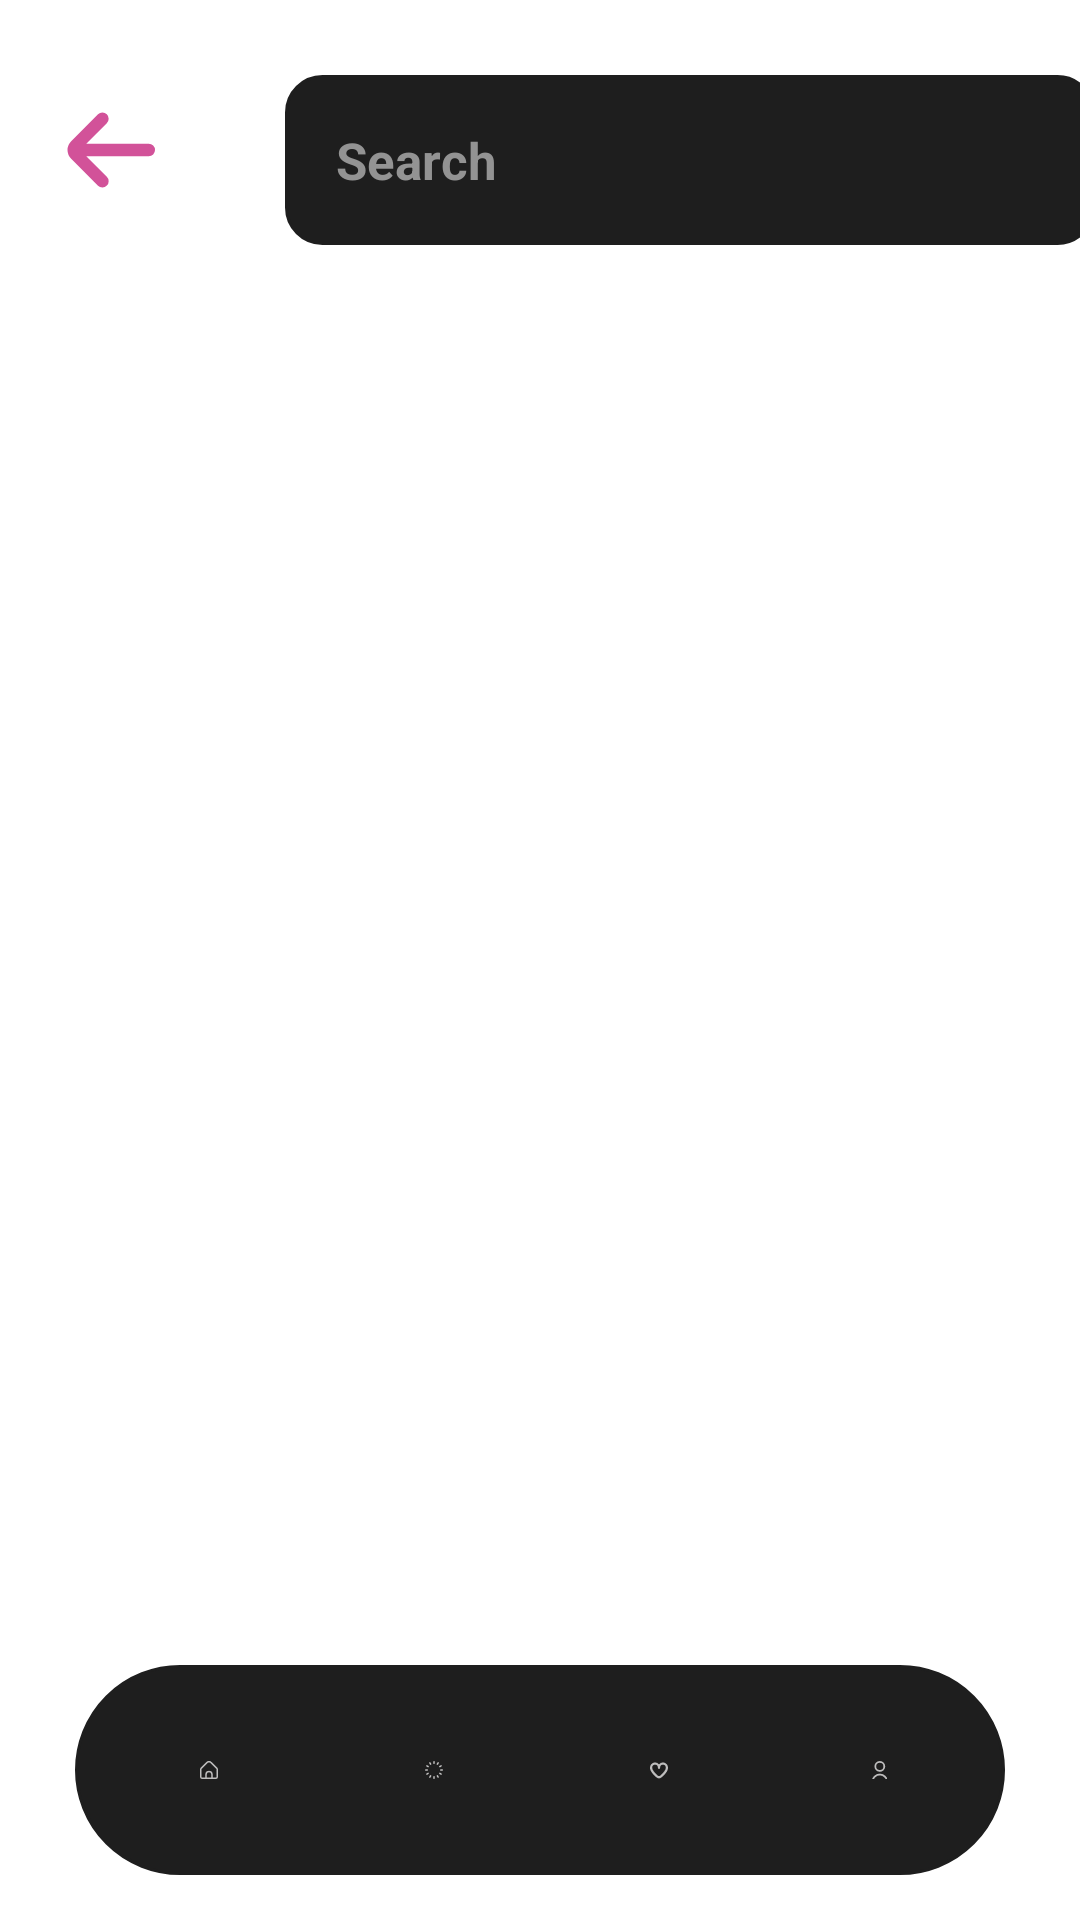

Screen size 1080 × 1920. Icon name, then its box in pixels as (x1, y1, x2, y2):
Go back: (67, 112, 155, 188)
